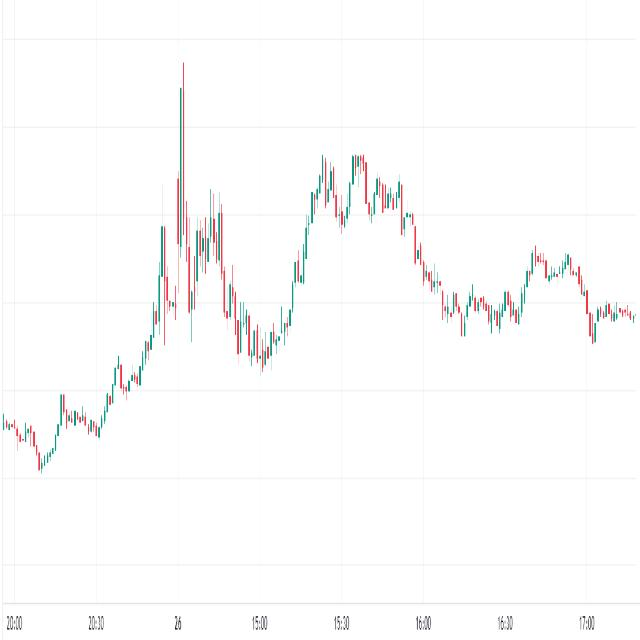Rounding-Bottom: (412, 238, 535, 351), (216, 256, 301, 387)
